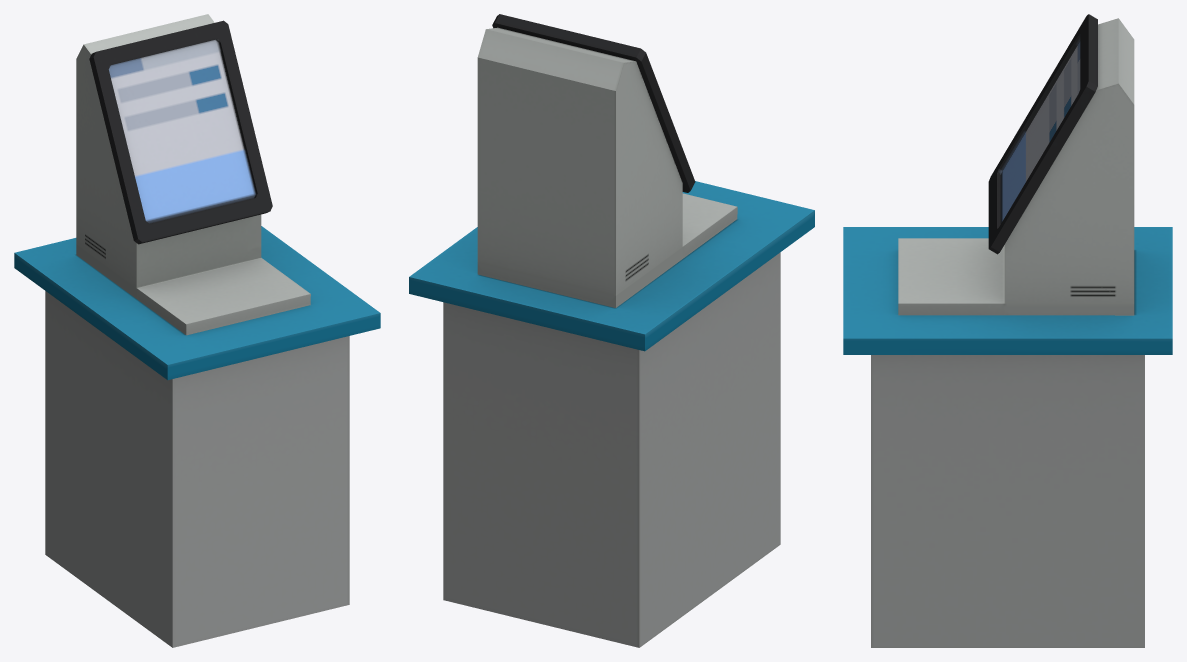
File: DeliveryMachine.fbx
3 views of the same model, side by side, from view 1: azimuth 30°, elevation 25°; view 2: azimuth 150°, elevation 25°; view 3: azimuth 270°, elevation 25° (orthographic). The views are drawn at different scales.
Visible parts, largest first — view 1: DeliveryMachine; view 2: DeliveryMachine; view 3: DeliveryMachine.
Boxes of the visible parts, x1=… form: DeliveryMachine: x1=14, y1=14, x2=380, y2=647; DeliveryMachine: x1=409, y1=14, x2=814, y2=647; DeliveryMachine: x1=843, y1=14, x2=1172, y2=647.
Bounding box in the file's own units: 95.15 × 220 × 119.
